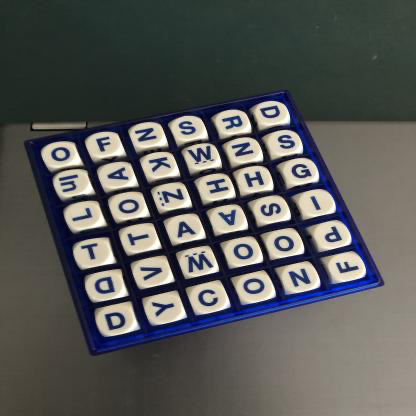a: (166, 216, 203, 243), (212, 206, 246, 234), (100, 163, 135, 189)
c: (190, 283, 228, 315)
d: (86, 272, 125, 301), (98, 308, 135, 337), (256, 101, 290, 128)
f: (329, 253, 366, 283), (88, 133, 120, 158)
g: (284, 158, 319, 185)
h: (198, 174, 234, 202), (238, 167, 273, 193)
i: (300, 191, 335, 218)
in: (52, 170, 90, 198)
k: (142, 153, 179, 179)
l: (66, 203, 102, 230)
n: (281, 265, 318, 294), (228, 139, 262, 164), (132, 123, 165, 148)
o: (237, 274, 273, 305), (265, 230, 303, 259), (225, 238, 262, 266), (43, 142, 78, 169), (110, 193, 145, 220)
p: (314, 223, 351, 250)
r: (217, 109, 250, 136)
s: (255, 196, 290, 224), (172, 116, 206, 142), (268, 132, 304, 156)
t: (75, 240, 112, 268), (122, 226, 158, 254)
v: (134, 261, 172, 288)
w: (180, 249, 216, 277), (184, 145, 220, 170)
y: (145, 294, 183, 326)
z: (153, 184, 190, 211)
